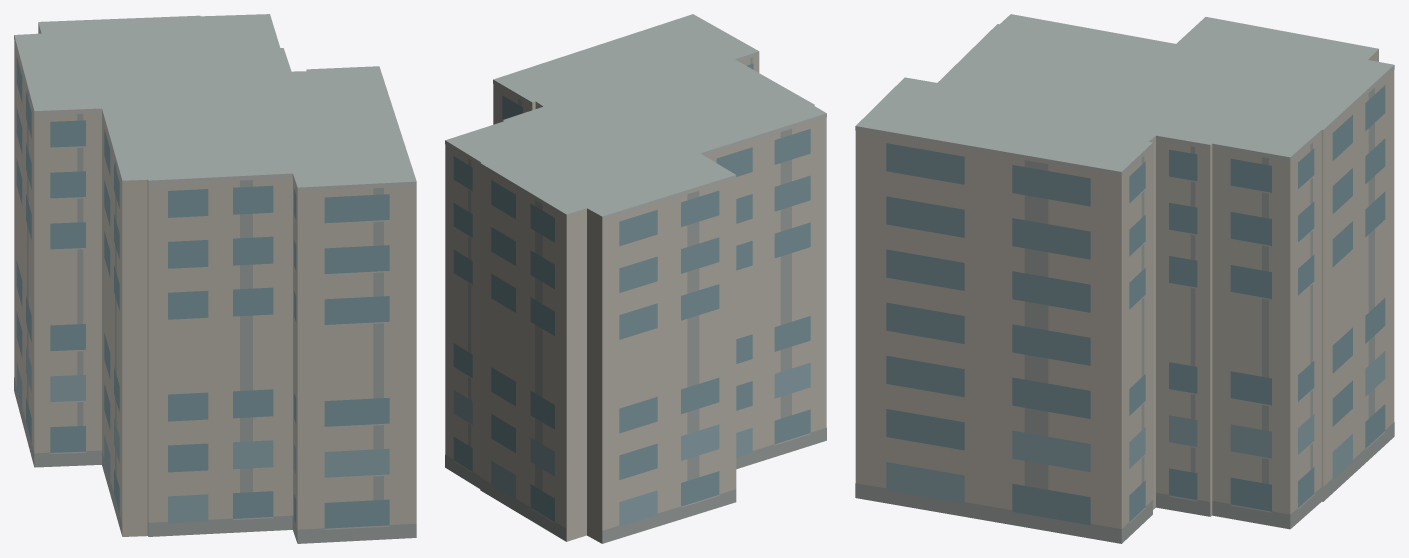
File: survey-upis-32656002.glb
The picture shows the model from 3 angles, left to right: view 1: azimuth 30°, elevation 25°; view 2: azimuth 150°, elevation 25°; view 3: azimuth 270°, elevation 25°; orthographic projection. The views are drawn at different scales.
Parts seen in each view (by area): view 1: survey-upis-32656002.tmp; view 2: survey-upis-32656002.tmp; view 3: survey-upis-32656002.tmp.
Boxes of the visible parts, x1,y1,x2,y2 form: survey-upis-32656002.tmp: (14, 14, 416, 543); survey-upis-32656002.tmp: (445, 14, 826, 543); survey-upis-32656002.tmp: (855, 14, 1394, 543).
Size of the model in its own units: 17.41 by 19.1 by 25.09.
